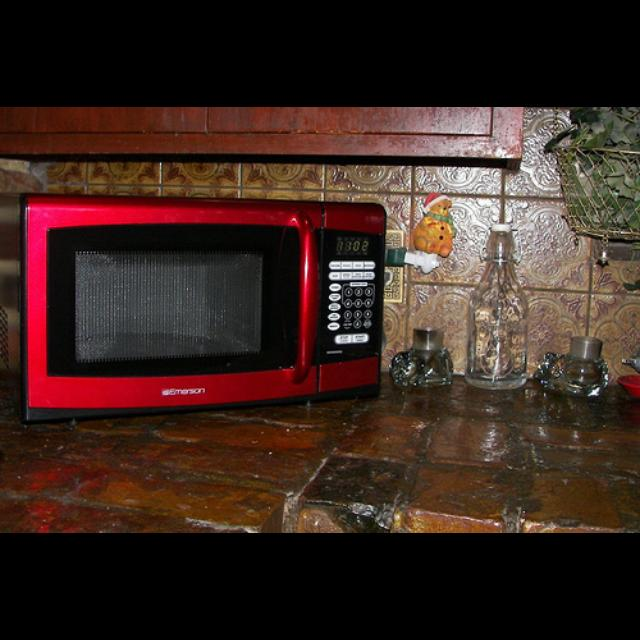Microwave: (19, 197, 390, 422)
